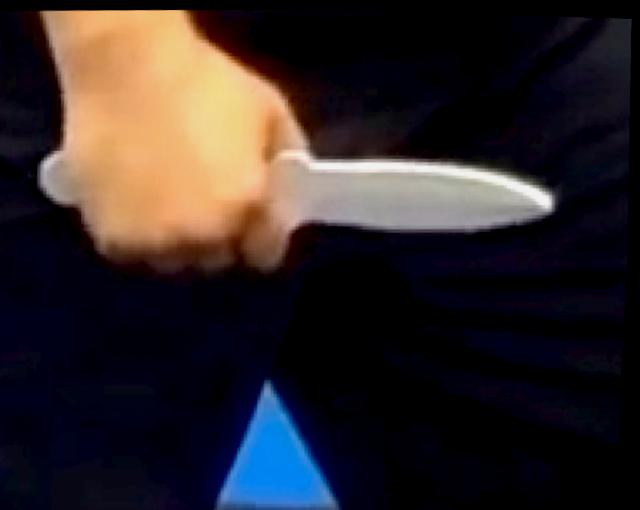pocket-knife: (41, 114, 567, 289)
